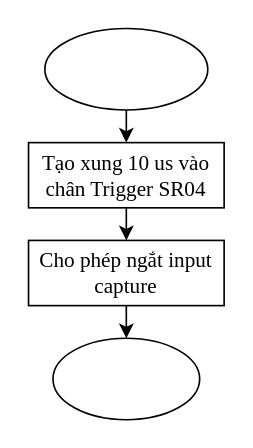
Image size: 253x448. Some labels were removed from this diagram. The centre of each missing label's shape, as x and y in pixels:
"Begin Read_SR04()" goes at (x=125, y=68).
"end Read_SR04" goes at (x=125, y=378).
